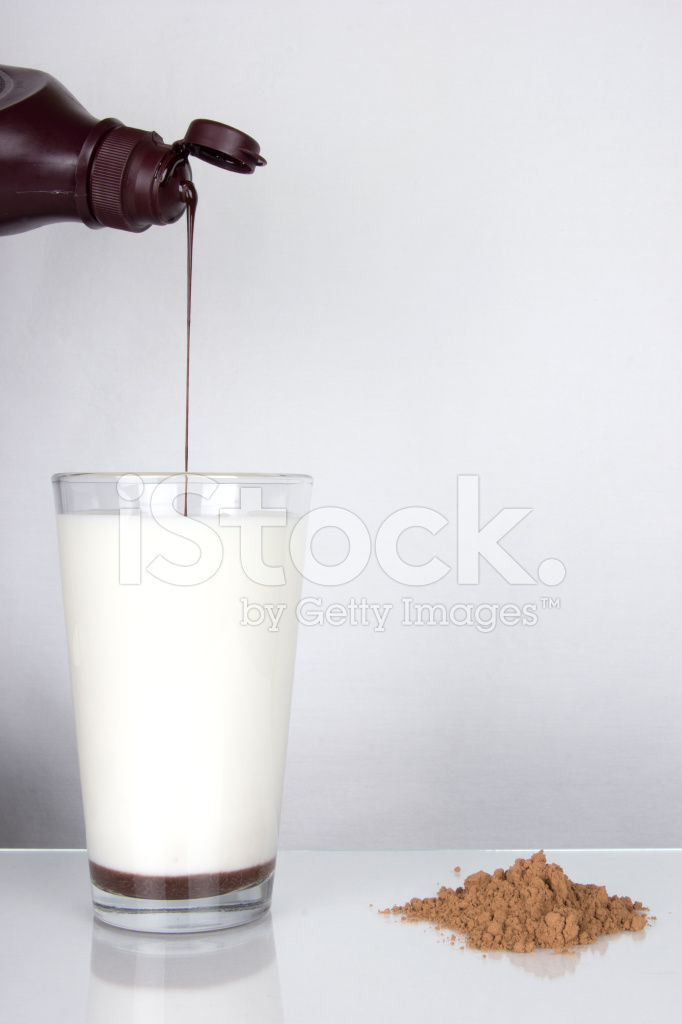glass of milk: (61, 459, 278, 927)
